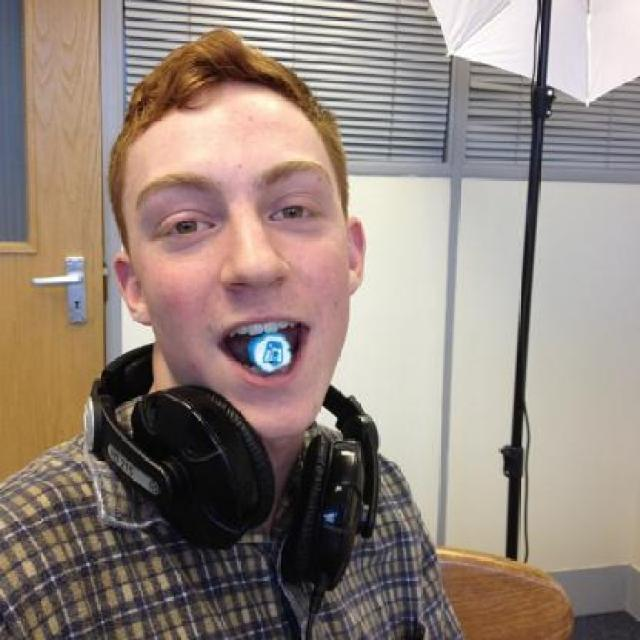earphone: (79, 333, 418, 545)
